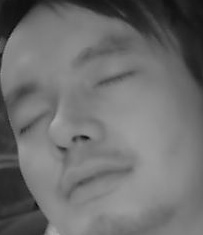blink: (94, 61, 136, 92), (17, 107, 55, 136)
mouth: (58, 156, 132, 204)
